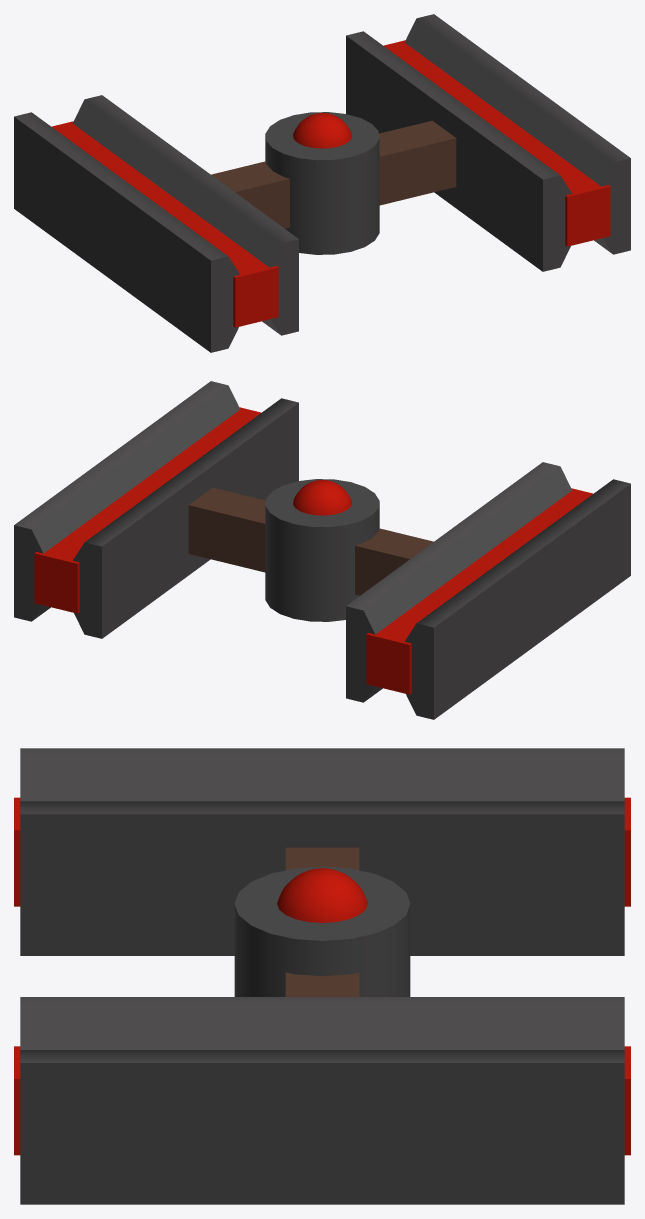
File: MineTracksRed.fbx
3 renders of one model, top to bottom at view 1: azimuth 30°, elevation 25°; view 2: azimuth 150°, elevation 25°; view 3: azimuth 270°, elevation 25°, orthographic. The views are drawn at different scales.
Parts seen in each view (by area): view 1: polySurface1; view 2: polySurface1; view 3: polySurface1.
Boxes of the visible parts, x1,y1,x2,y2 form: polySurface1: (14,14,630,352); polySurface1: (14,381,630,719); polySurface1: (14,748,630,1204).
Size of the model in its own units: 50.62 by 15.58 by 41.95.
